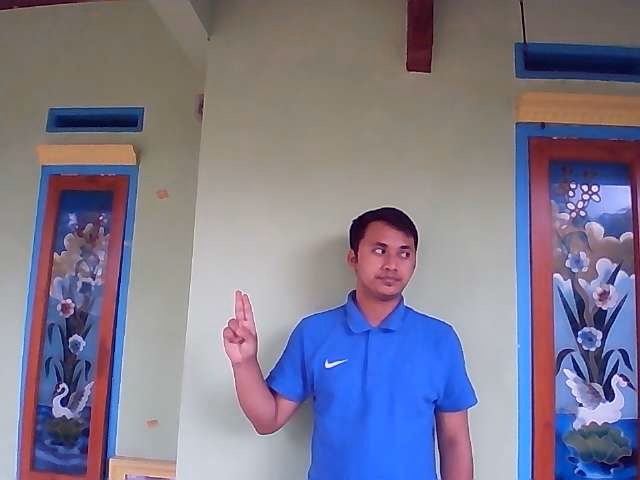U: (222, 290, 258, 364)
